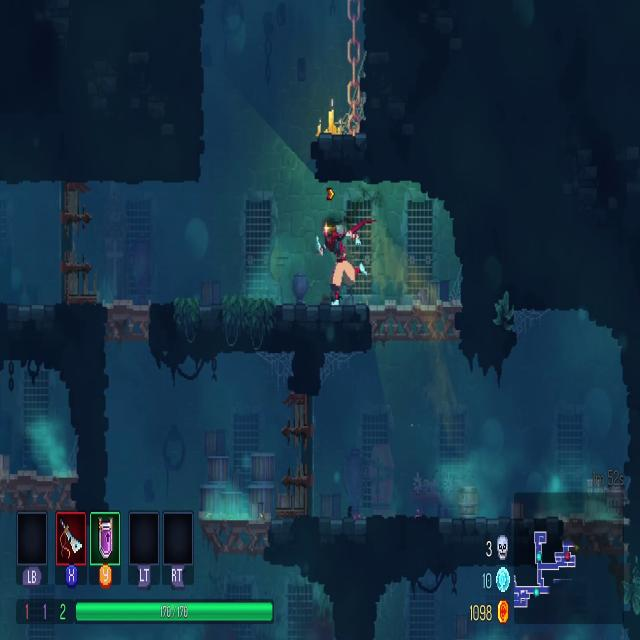agents: (318, 221, 366, 307)
wood_floor: (369, 297, 463, 340), (0, 466, 77, 514), (197, 511, 275, 552), (104, 296, 154, 344)
